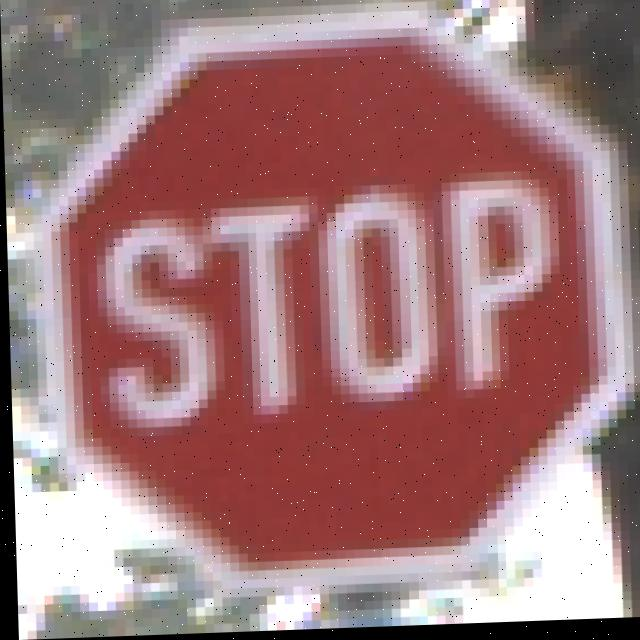stop: (13, 19, 629, 560)
